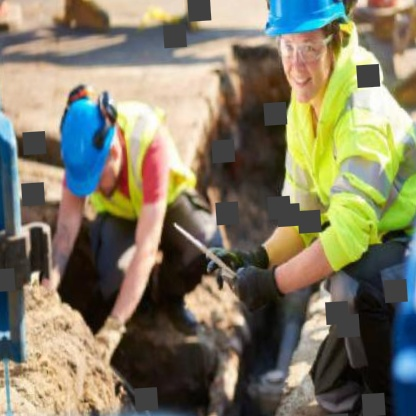blue: (41, 78, 130, 209), (251, 0, 372, 49)
vest: (266, 80, 416, 258), (119, 90, 202, 213)
